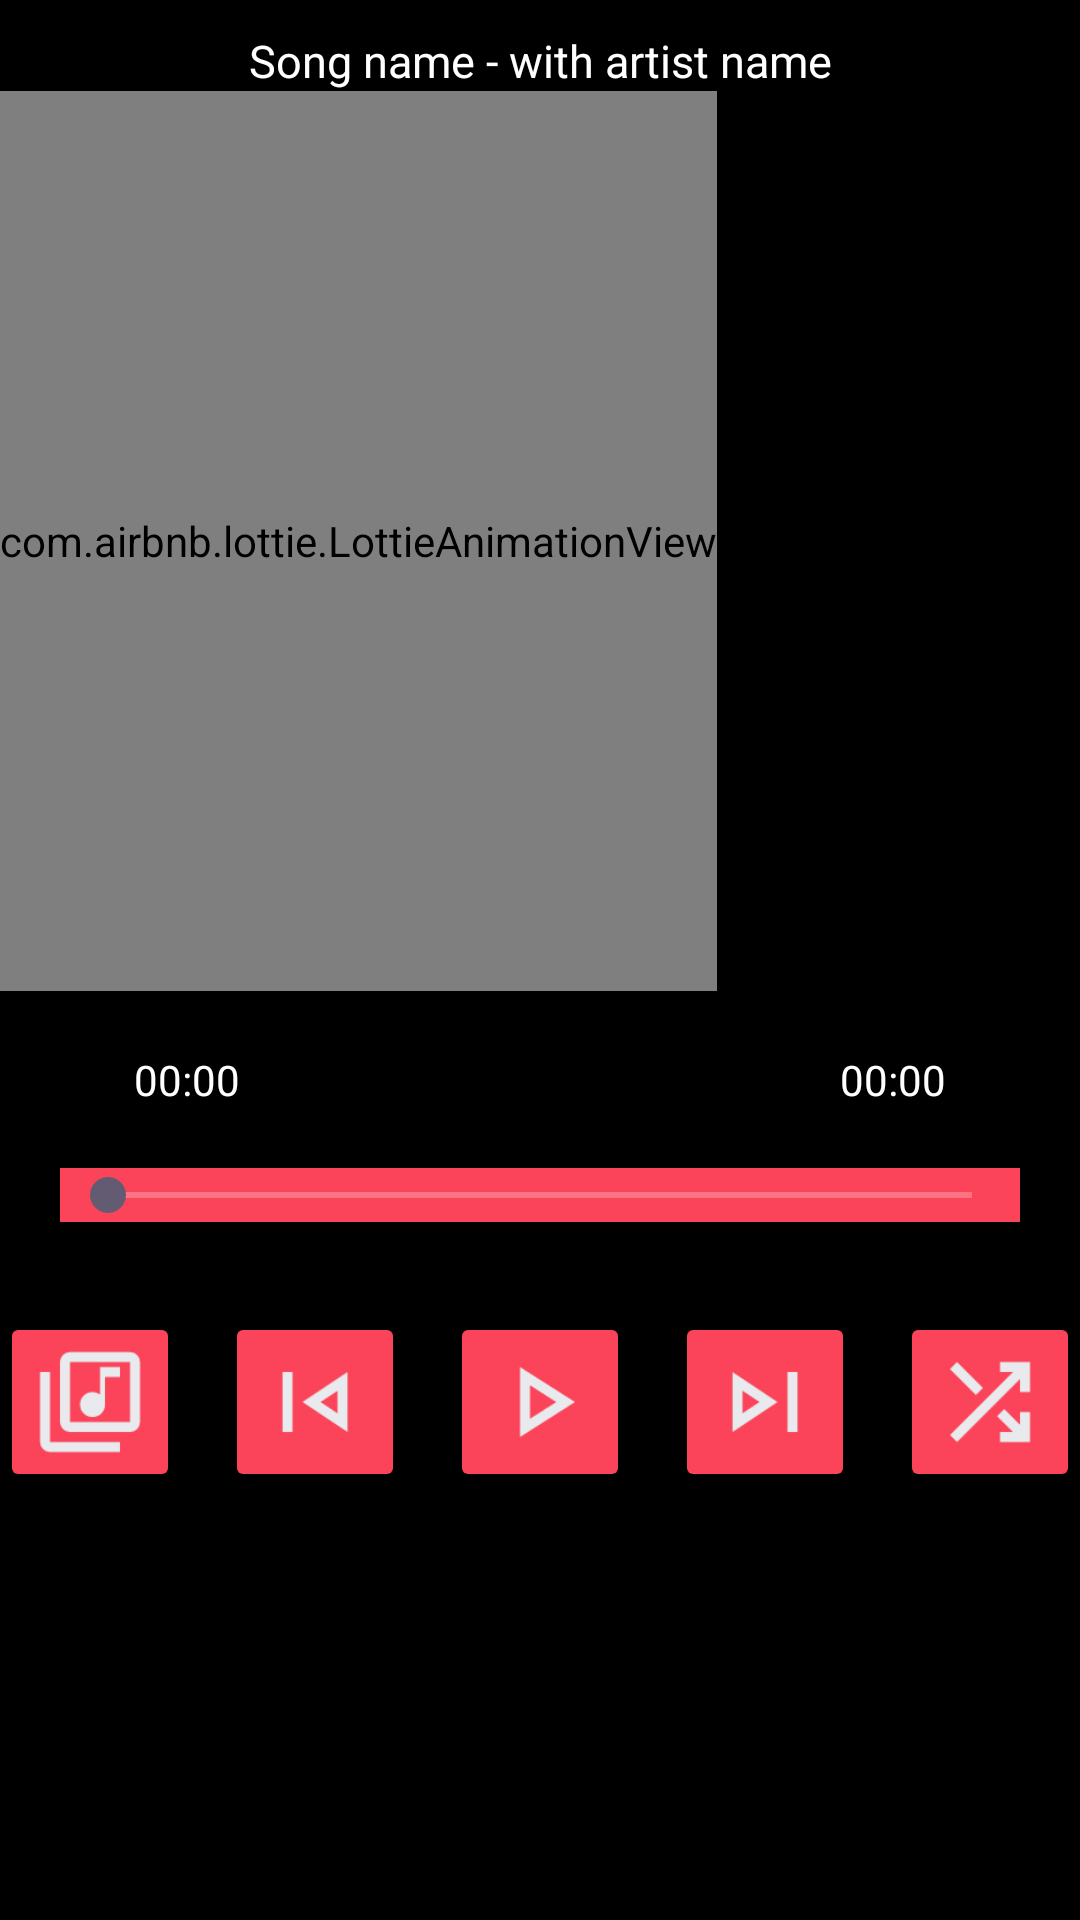

Where icons sit on this 1080×1920 app screen, as box=[x1, y1, x2, y2]:
next: box=[687, 1330, 843, 1474]
play/pause song button: box=[462, 1330, 618, 1474]
previous song button: box=[237, 1330, 393, 1474]
shuffle: box=[912, 1330, 1068, 1474]
View songs: box=[12, 1330, 168, 1474]
